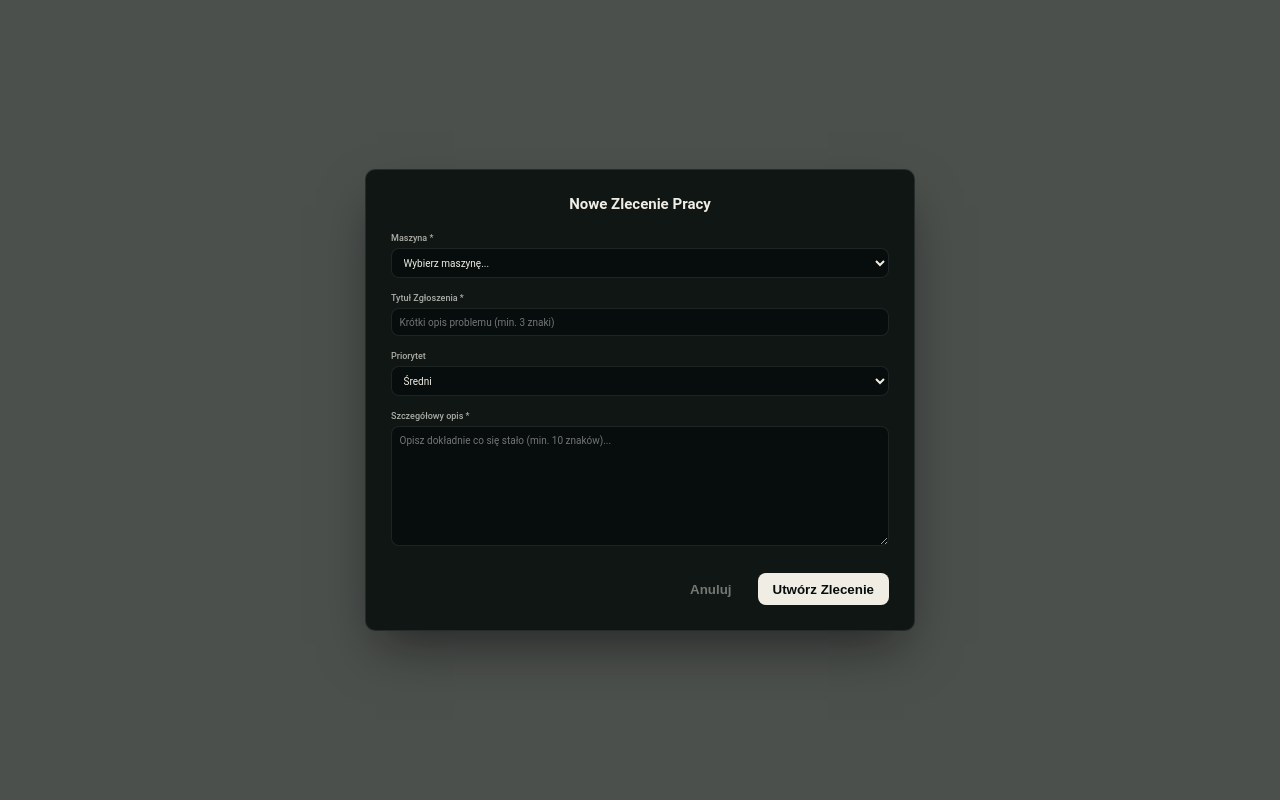
Test: WorkOrderModal › wyświetla stan ładowania "Zapisywanie..."
The image size is (1280, 800).
Select "Tokarka CNC (SN001)" in the dropdown labelled "Maszyna *" at (640, 263), box [391,248,889,278]
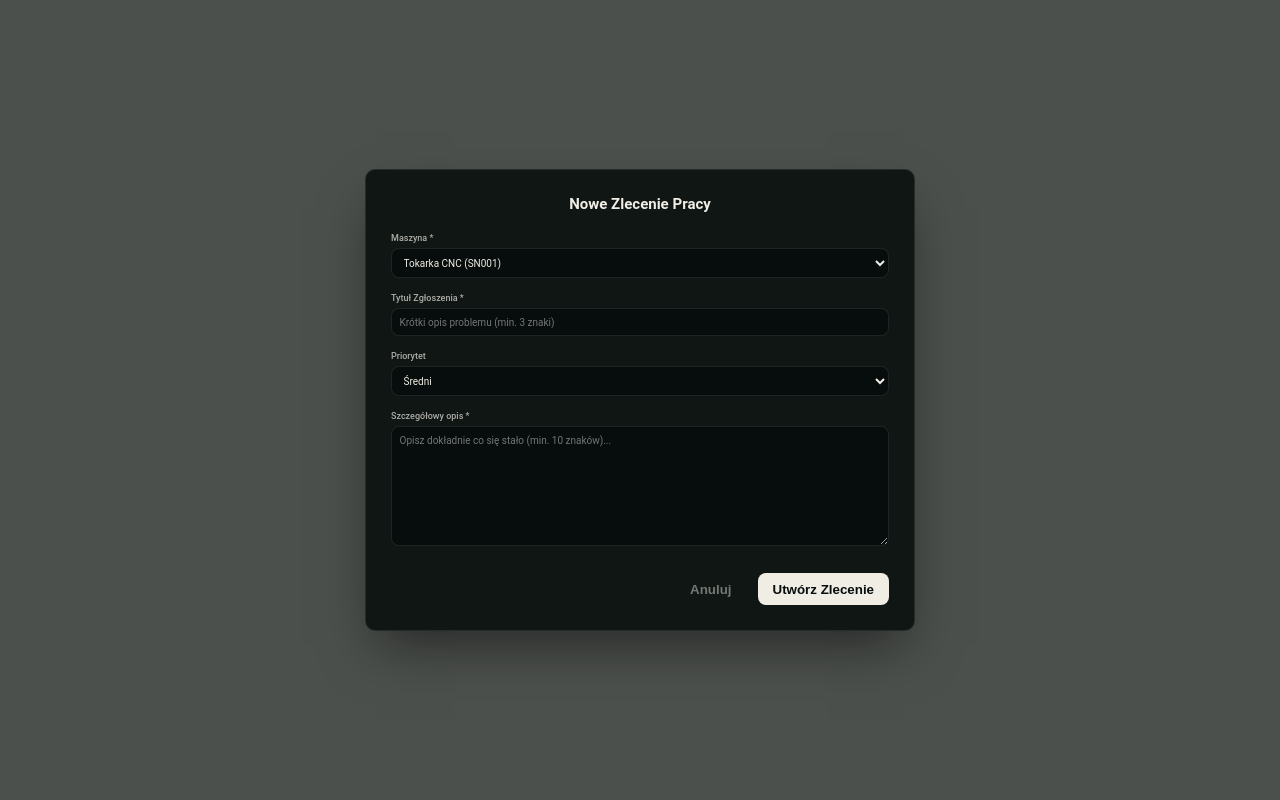
Type "Awaria silnika" into the field labelled "Tytuł Zgłoszenia *".
click(640, 322); type("Awaria silnika")  # box [391,308,889,336]
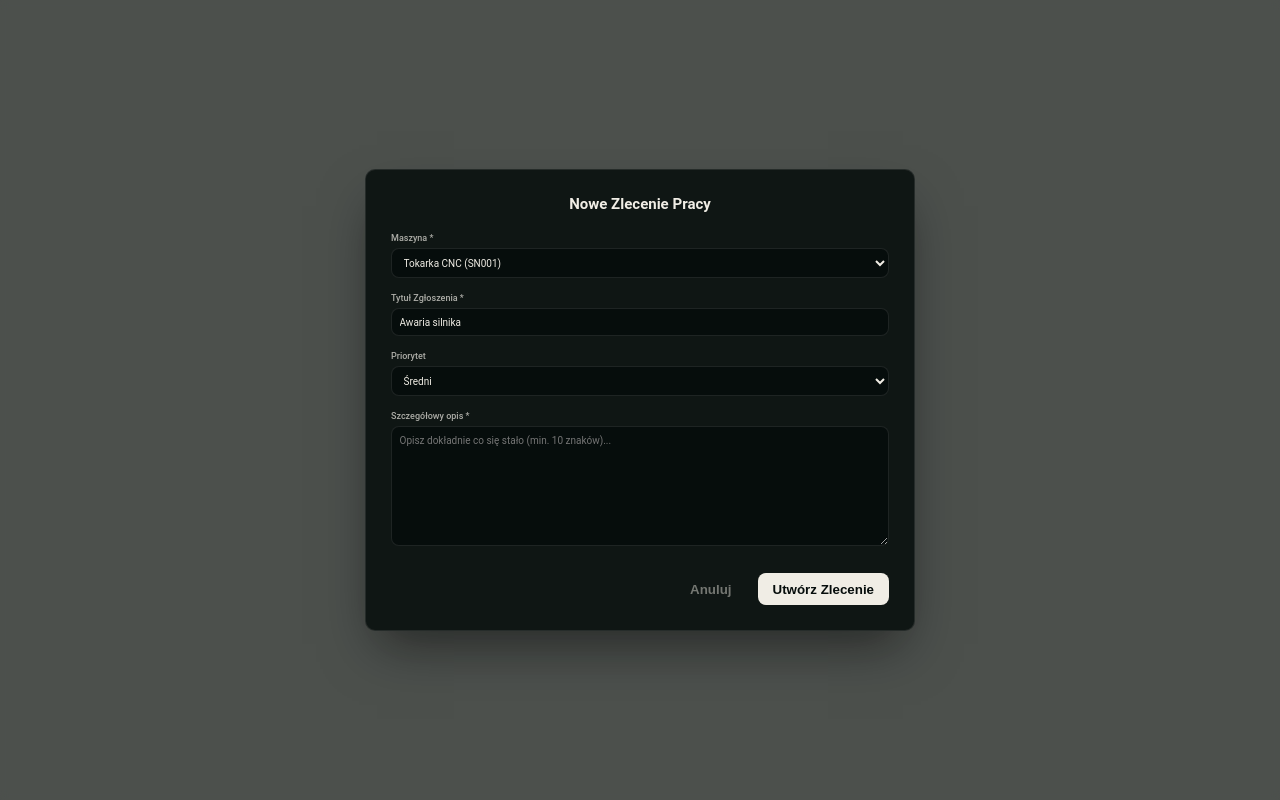
Type "Silnik nie odpowiada na sygnały" into the text box labelled "Szczegółowy opis *".
click(640, 486); type("Silnik nie odpowiada na sygnały")  # box [391,426,889,546]
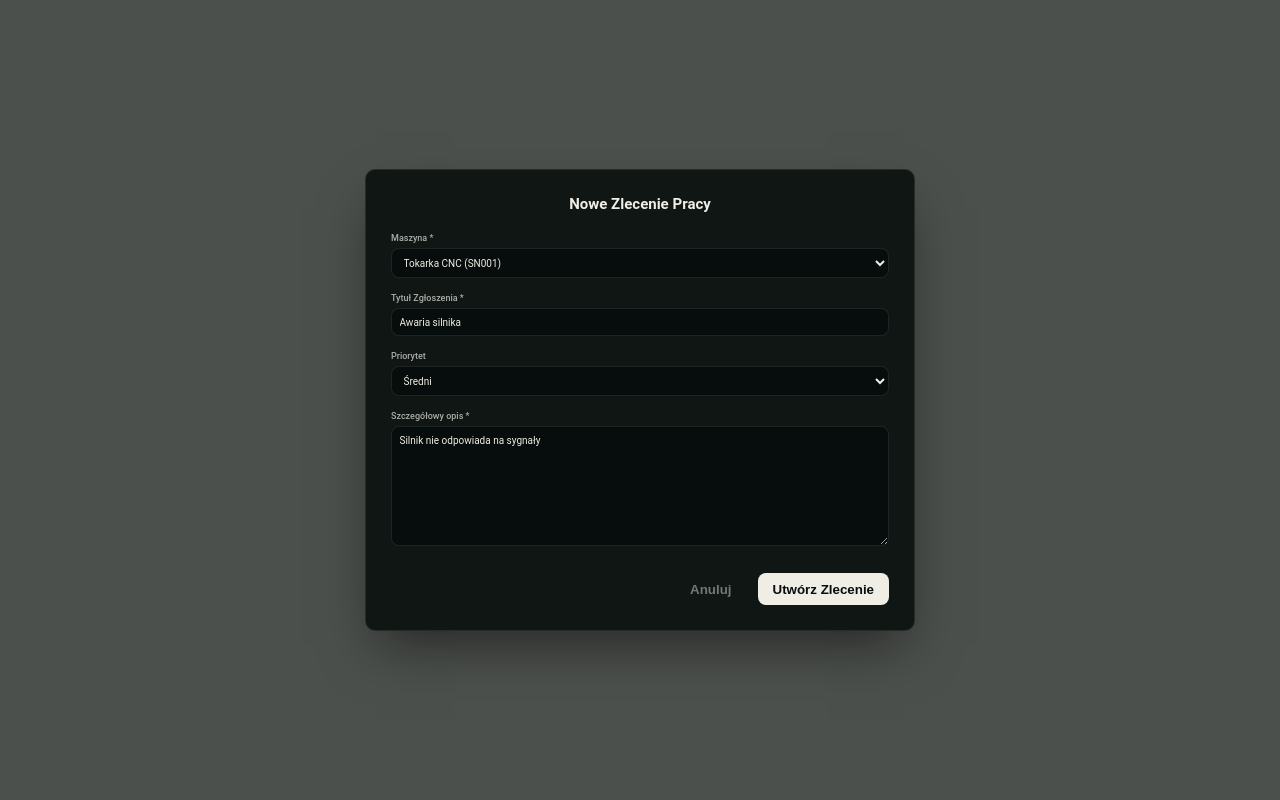
Click the button "Utwórz Zlecenie".
click(823, 589)  # box [758,573,889,605]
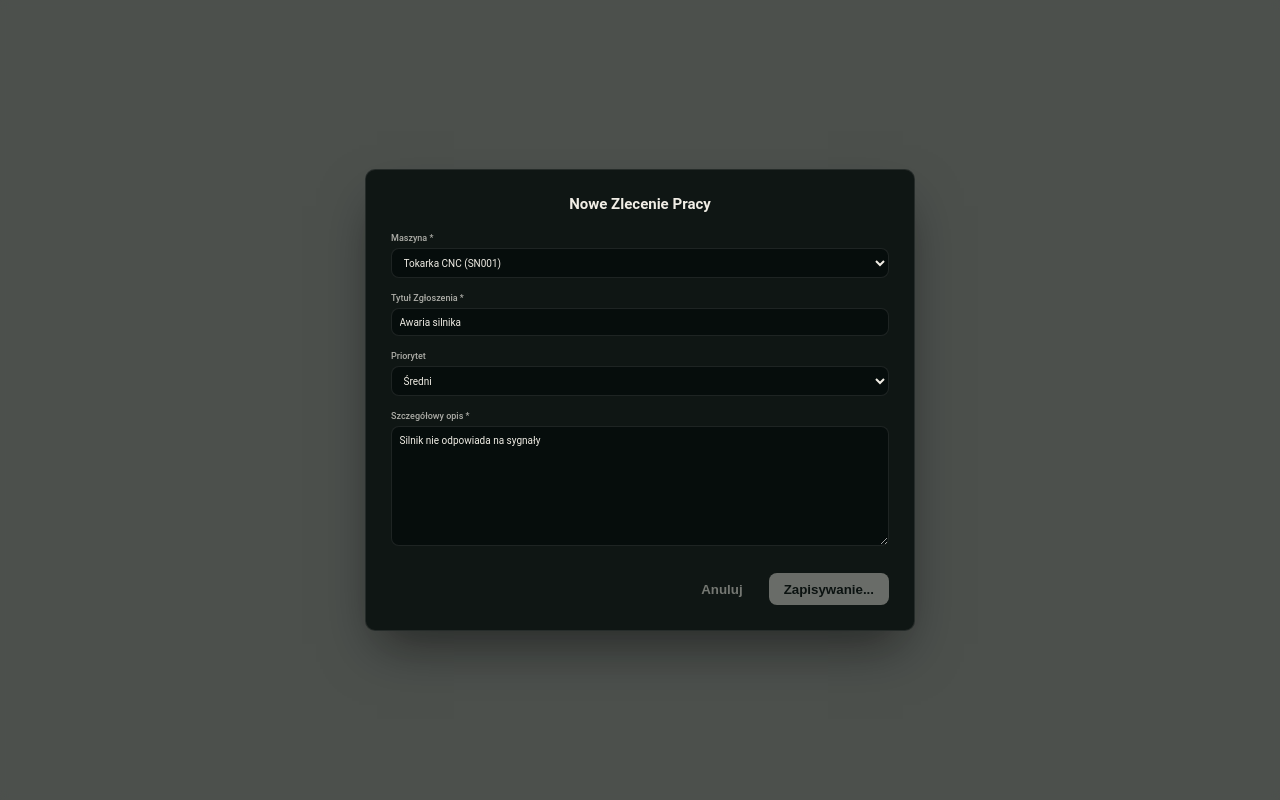
Now the button "Zapisywanie..." is shown, box [769,573,889,605]
